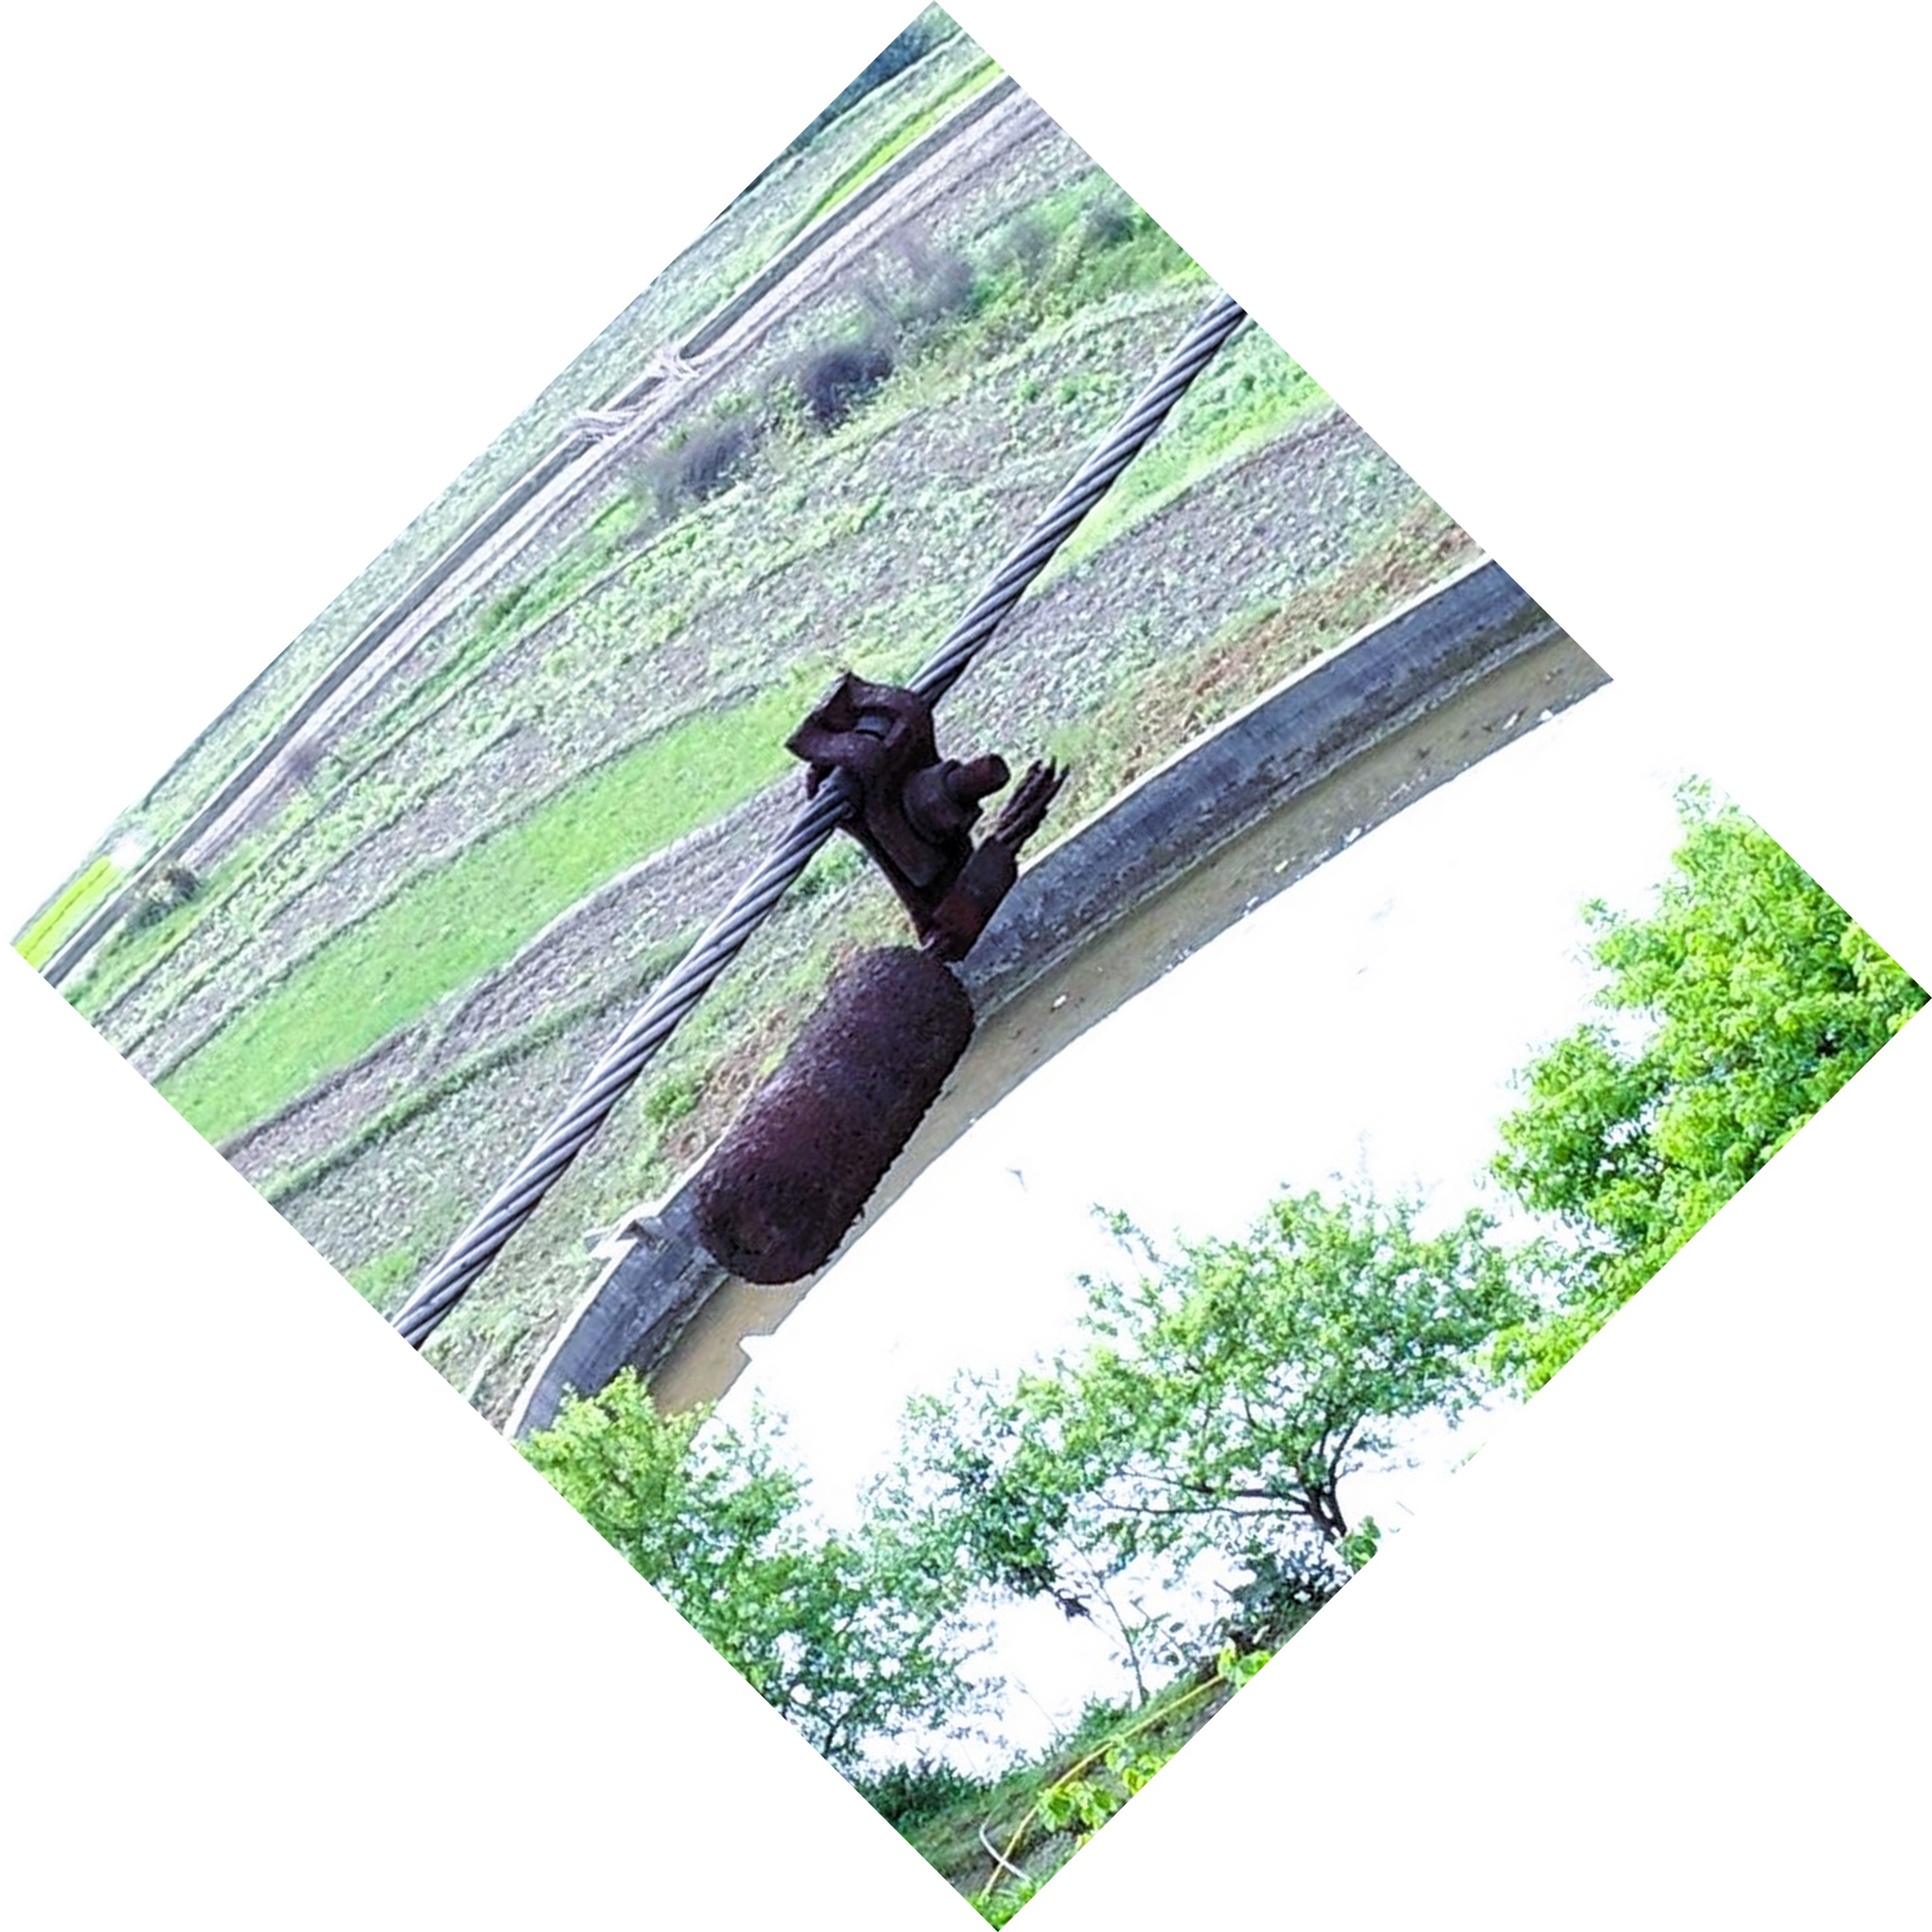Damage of shockproof hammer: (612, 632, 1102, 1329)
